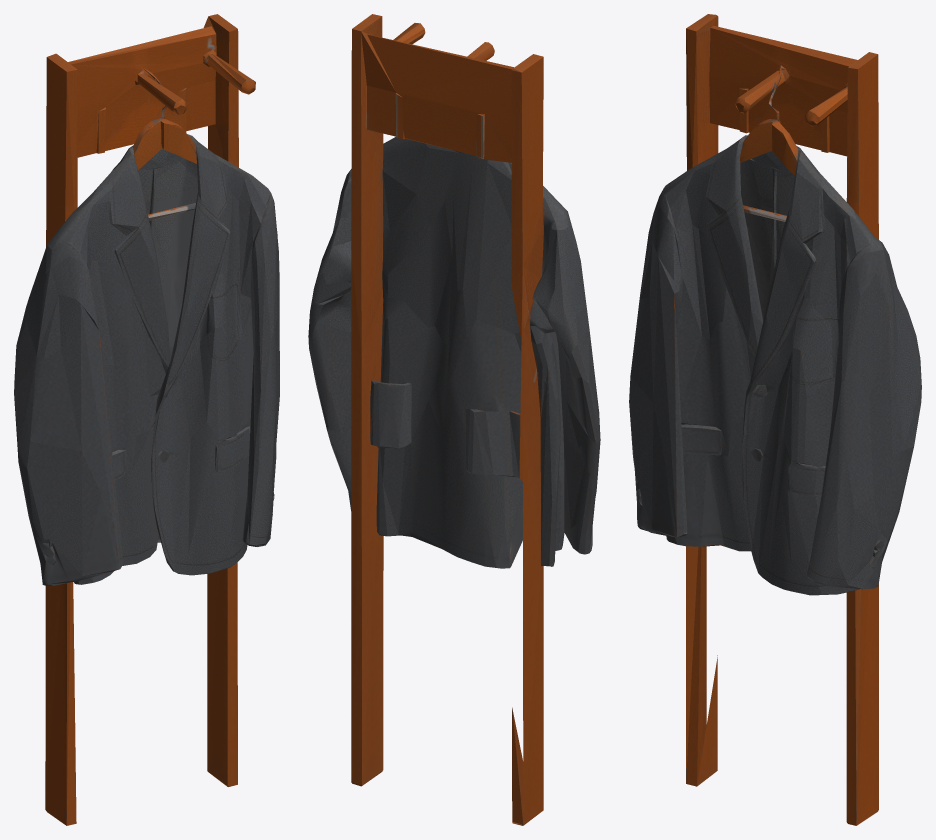
File: Coat_rack_and_coat.glb
3 views of the same model, side by side, from view 1: azimuth 30°, elevation 25°; view 2: azimuth 150°, elevation 25°; view 3: azimuth 330°, elevation 25° (orthographic).
Bounding box in the file's own units: 0.7093 × 1.9 × 0.2438.
Materials: 1 (1 with a texture image).
